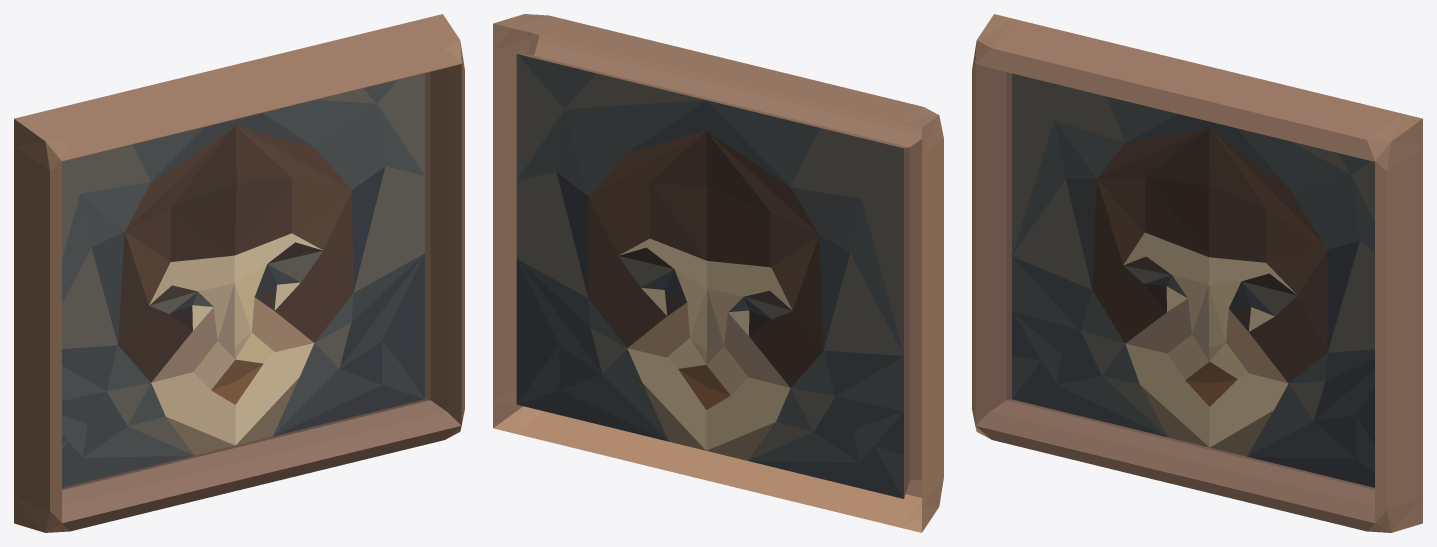
The model's file is picture_frame_big_face.fbx.
The picture shows the model from 3 angles, left to right: view 1: azimuth 30°, elevation 25°; view 2: azimuth 150°, elevation 25°; view 3: azimuth 330°, elevation 25°; orthographic projection.
Parts seen in each view (by area): view 1: picture_frame; view 2: picture_frame; view 3: picture_frame.
Boxes of the visible parts, x1,y1,x2,y2 form: picture_frame: (14,14,464,532); picture_frame: (493,14,943,532); picture_frame: (972,14,1422,532).
Bounding box in the file's own units: 101 × 91.06 × 13.6.
